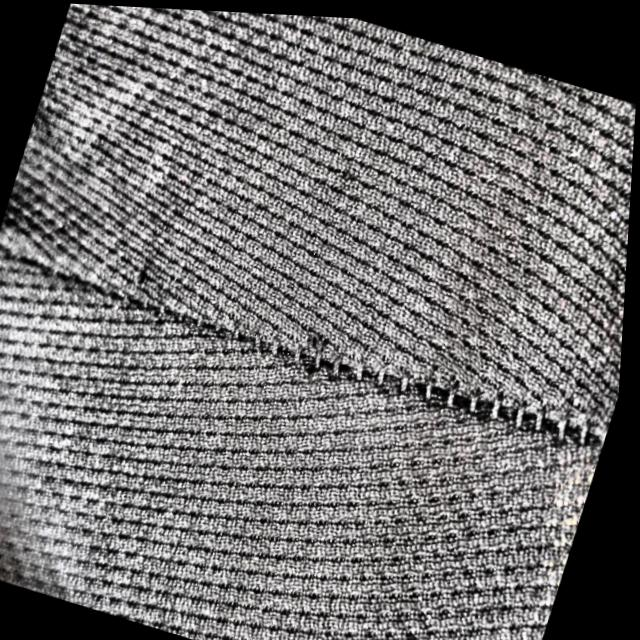Stitch: (291, 298, 626, 493)
